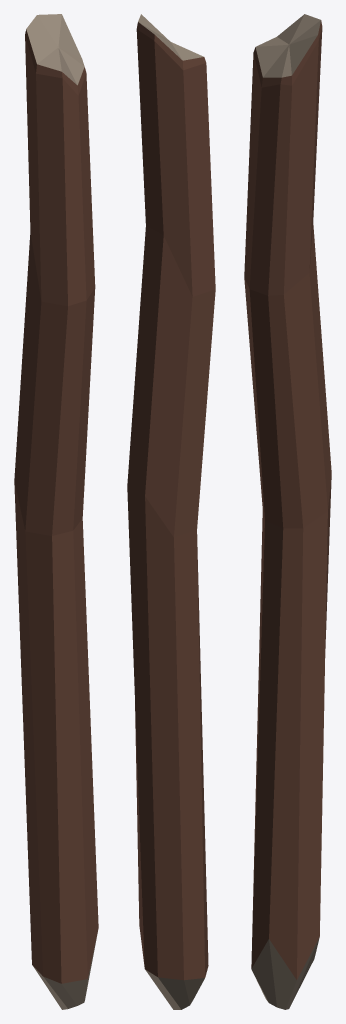
The model's file is Stick.fbx.
3 renders of one model, left to right at view 1: azimuth 90°, elevation 25°; view 2: azimuth 150°, elevation 25°; view 3: azimuth 330°, elevation 25°, orthographic.
Parts seen in each view (by area): view 1: Stick; view 2: Stick; view 3: Stick.
Boxes of the visible parts, bbox=[...] form: Stick: bbox=[14, 14, 98, 1009]; Stick: bbox=[127, 14, 215, 1009]; Stick: bbox=[244, 14, 331, 1009].
Size of the model in its own units: 0.0889 by 1.1 by 0.0857.
